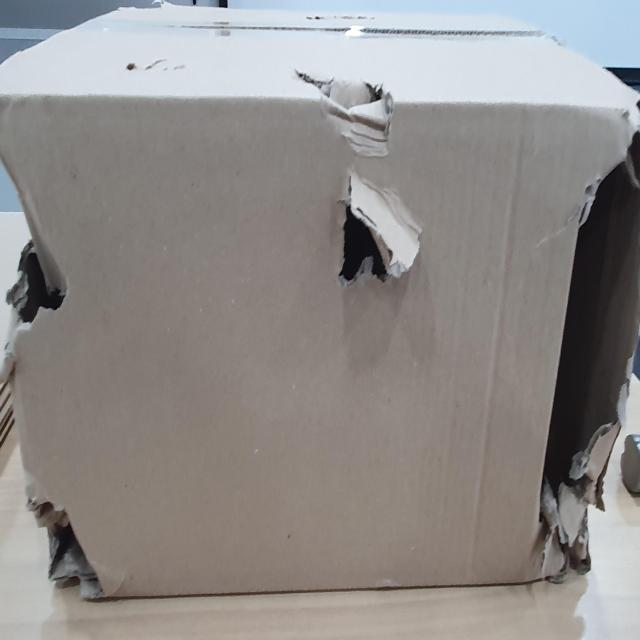damaged: (537, 100, 640, 581), (0, 98, 75, 329), (27, 464, 115, 610), (330, 167, 426, 290), (291, 59, 396, 160)
